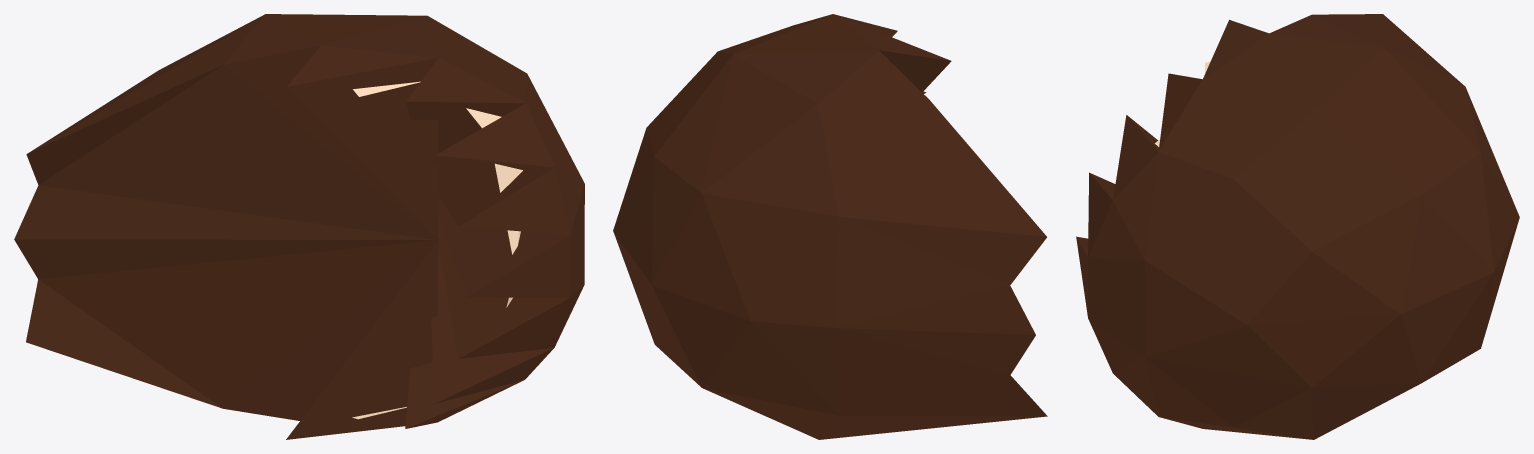
The model's file is hair13.glb.
3 views of the same model, side by side, from view 1: azimuth 30°, elevation 25°; view 2: azimuth 150°, elevation 25°; view 3: azimuth 270°, elevation 25° (orthographic). The views are drawn at different scales.
Parts seen in each view (by area): view 1: tomodachi-2026-03-10-20-48-44-663, tomodachi-2026-03-10-20-48-44-663.008; view 2: tomodachi-2026-03-10-20-48-44-663; view 3: tomodachi-2026-03-10-20-48-44-663.
Boxes of the visible parts, <box> form: tomodachi-2026-03-10-20-48-44-663: <box>14,14,584,439</box>; tomodachi-2026-03-10-20-48-44-663.008: <box>352,81,522,419</box>; tomodachi-2026-03-10-20-48-44-663: <box>613,14,1047,439</box>; tomodachi-2026-03-10-20-48-44-663: <box>1076,14,1519,439</box>.
Size of the model in its own units: 1.45 by 1.12 by 1.23.
Materials: 2 (2 with a texture image).
